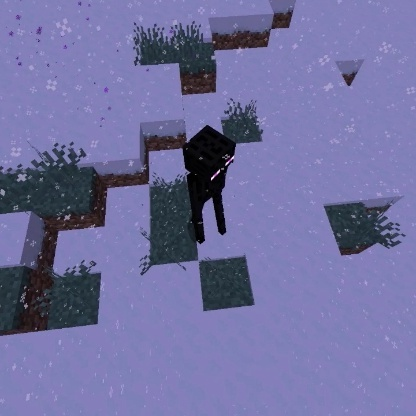enderman: (180, 122, 240, 247)
